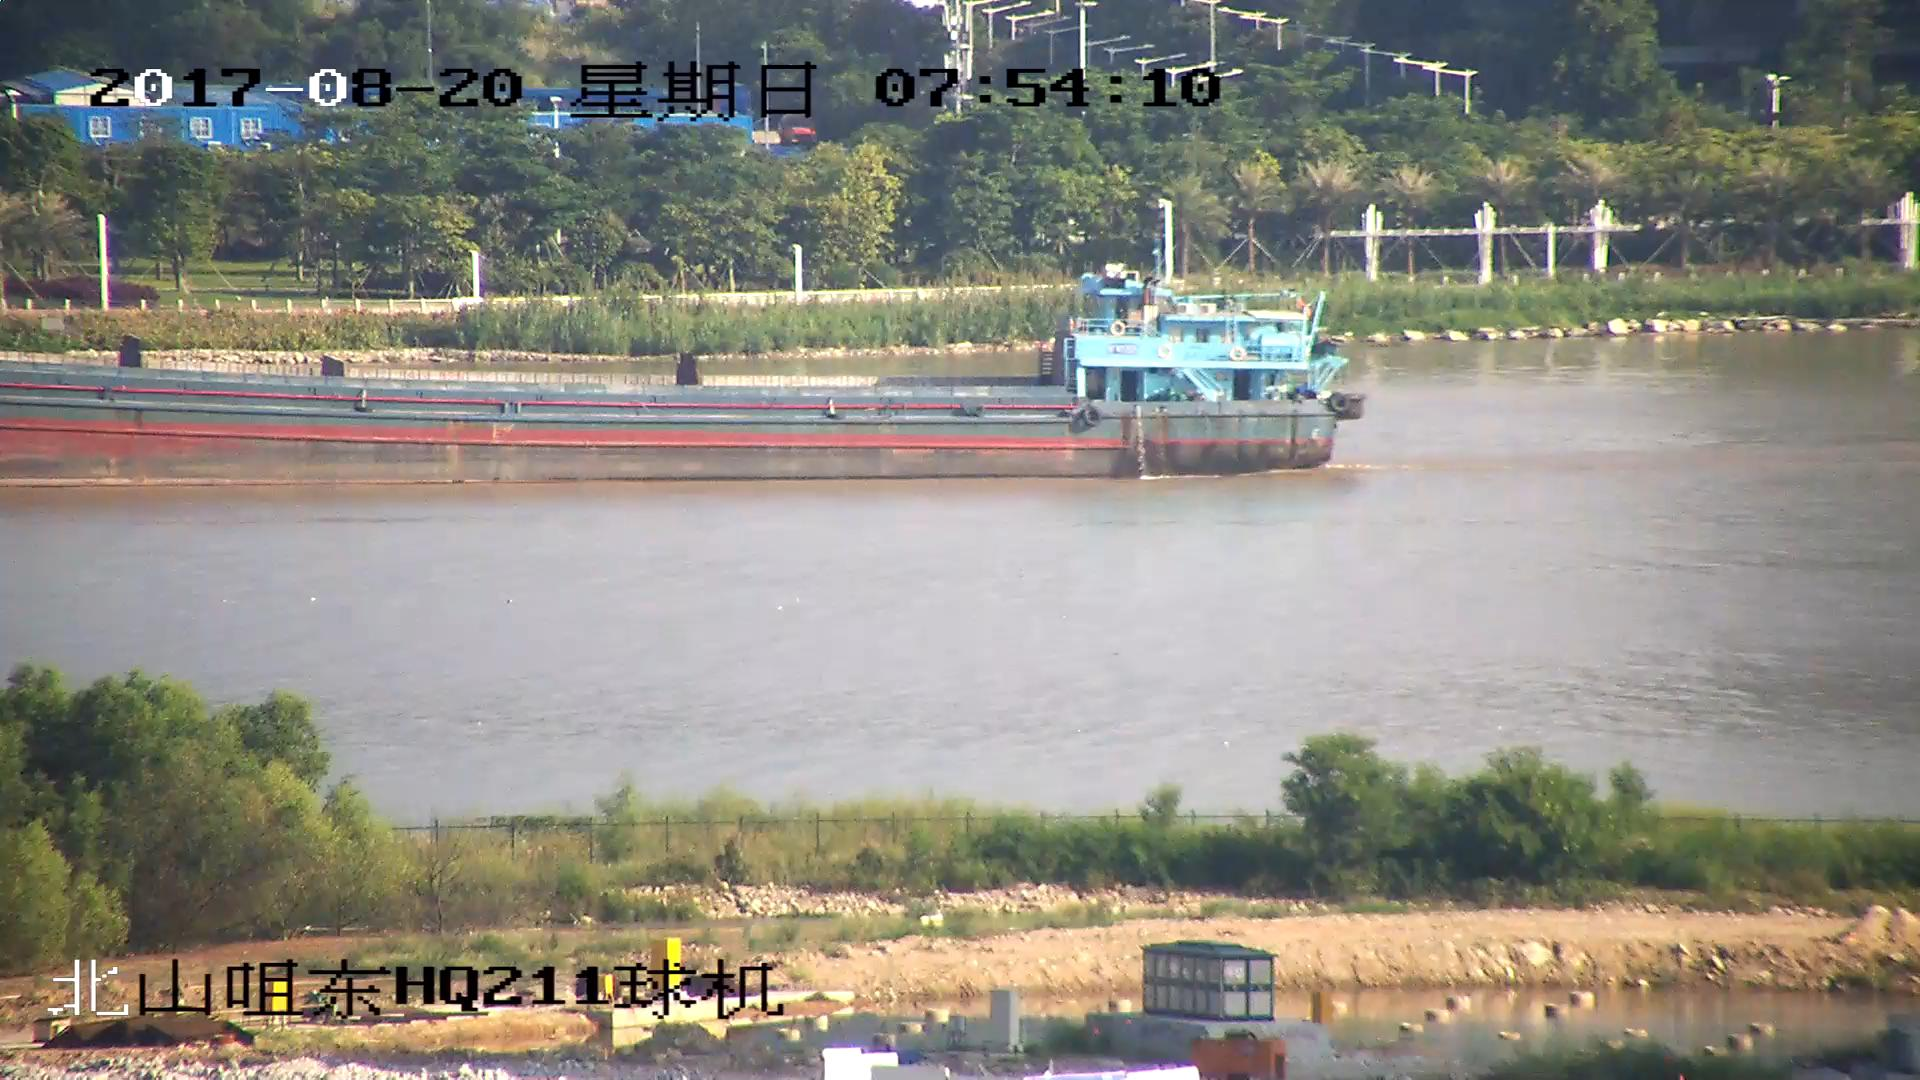bulk cargo carrier: (1, 261, 1368, 491)
